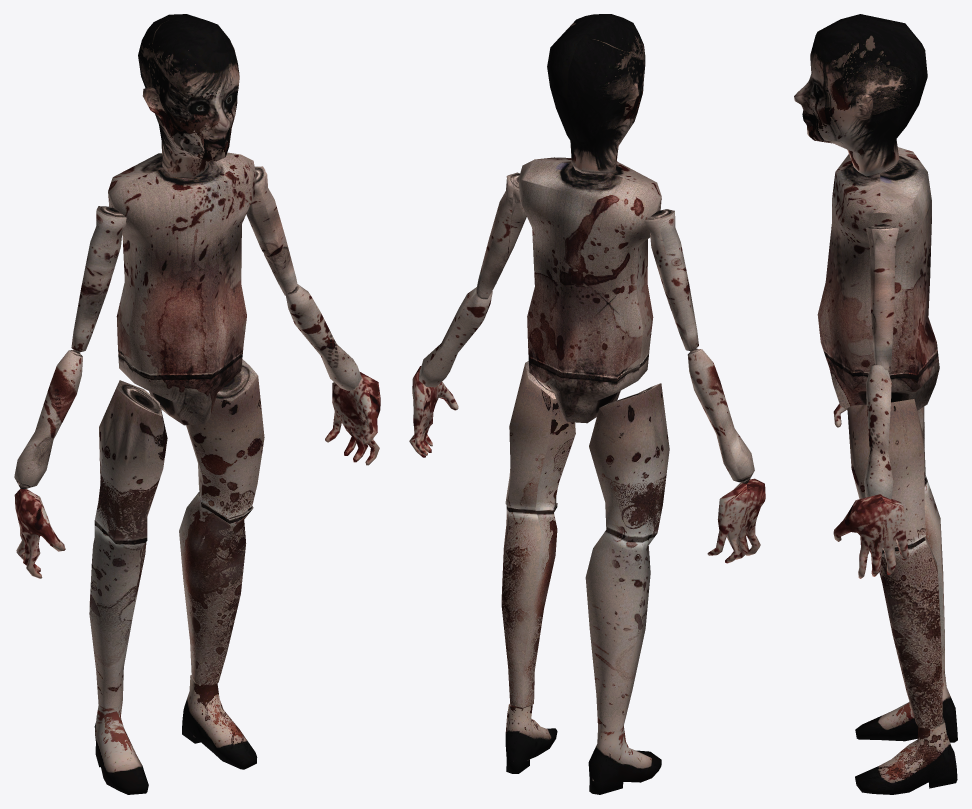
Rendered from the_babu___grey.glb.
3 views of the same model, side by side, from view 1: azimuth 30°, elevation 25°; view 2: azimuth 150°, elevation 25°; view 3: azimuth 270°, elevation 25° (orthographic). The views are drawn at different scales.
Visible parts, largest first — view 1: studio_Zombie_reference.smd.010_9, studio_Zombie_reference.smd.009_8, studio_Zombie_reference.smd.012_11, studio_Zombie_reference.smd.016_15, studio_Zombie_reference.smd.014_13, studio_Zombie_reference.smd.015_14, studio_Zombie_reference.smd.004_4, studio_Zombie_reference.smd.006_5, studio_Zombie_reference.smd.013_12, studio_Zombie_reference.smd.008_7, studio_Zombie_reference.smd.019_18, studio_Zombie_reference.smd.003_3 (+2 smaller); view 2: studio_Zombie_reference.smd.010_9, studio_Zombie_reference.smd.009_8, studio_Zombie_reference.smd.016_15, studio_Zombie_reference.smd.015_14, studio_Zombie_reference.smd.012_11, studio_Zombie_reference.smd.014_13, studio_Zombie_reference.smd.004_4, studio_Zombie_reference.smd.006_5, studio_Zombie_reference.smd.007_6, studio_Zombie_reference.smd.005_2, studio_Zombie_reference.smd.019_18, studio_Zombie_reference.smd.003_3 (+2 smaller); view 3: studio_Zombie_reference.smd.010_9, studio_Zombie_reference.smd.009_8, studio_Zombie_reference.smd.012_11, studio_Zombie_reference.smd.014_13, studio_Zombie_reference.smd.013_12, studio_Zombie_reference.smd.008_7, studio_Zombie_reference.smd.005_2, studio_Zombie_reference.smd.003_3, studio_Zombie_reference.smd.019_18, studio_Zombie_reference.smd.015_14.
Boxes of the visible parts, bbox=[...] form: studio_Zombie_reference.smd.010_9: bbox=[108, 152, 255, 425]; studio_Zombie_reference.smd.009_8: bbox=[138, 14, 239, 177]; studio_Zombie_reference.smd.012_11: bbox=[179, 492, 253, 685]; studio_Zombie_reference.smd.016_15: bbox=[94, 380, 167, 542]; studio_Zombie_reference.smd.014_13: bbox=[186, 359, 264, 517]; studio_Zombie_reference.smd.015_14: bbox=[89, 530, 146, 708]; studio_Zombie_reference.smd.004_4: bbox=[71, 206, 126, 352]; studio_Zombie_reference.smd.006_5: bbox=[14, 350, 82, 489]; studio_Zombie_reference.smd.013_12: bbox=[182, 675, 257, 769]; studio_Zombie_reference.smd.008_7: bbox=[325, 372, 380, 465]; studio_Zombie_reference.smd.019_18: bbox=[94, 701, 148, 794]; studio_Zombie_reference.smd.003_3: bbox=[285, 284, 361, 391]; studio_Zombie_reference.smd.010_9: bbox=[518, 157, 661, 423]; studio_Zombie_reference.smd.009_8: bbox=[547, 14, 645, 174]; studio_Zombie_reference.smd.016_15: bbox=[589, 383, 669, 550]; studio_Zombie_reference.smd.015_14: bbox=[585, 532, 657, 731]; studio_Zombie_reference.smd.012_11: bbox=[501, 503, 557, 707]; studio_Zombie_reference.smd.014_13: bbox=[505, 361, 575, 511]; studio_Zombie_reference.smd.004_4: bbox=[644, 209, 698, 351]; studio_Zombie_reference.smd.006_5: bbox=[687, 348, 754, 483]; studio_Zombie_reference.smd.007_6: bbox=[707, 478, 765, 563]; studio_Zombie_reference.smd.005_2: bbox=[476, 172, 526, 299]; studio_Zombie_reference.smd.019_18: bbox=[588, 726, 661, 782]; studio_Zombie_reference.smd.003_3: bbox=[419, 287, 492, 387]; studio_Zombie_reference.smd.010_9: bbox=[817, 147, 939, 410]; studio_Zombie_reference.smd.009_8: bbox=[794, 14, 927, 176]; studio_Zombie_reference.smd.012_11: bbox=[879, 536, 942, 728]; studio_Zombie_reference.smd.014_13: bbox=[847, 399, 925, 546]; studio_Zombie_reference.smd.013_12: bbox=[855, 718, 957, 794]; studio_Zombie_reference.smd.008_7: bbox=[833, 494, 908, 578]; studio_Zombie_reference.smd.005_2: bbox=[866, 224, 898, 371]; studio_Zombie_reference.smd.003_3: bbox=[864, 364, 893, 499]; studio_Zombie_reference.smd.019_18: bbox=[855, 674, 957, 741]; studio_Zombie_reference.smd.015_14: bbox=[924, 490, 944, 679].
Bounding box in the file's own units: 0.7987 × 1.62 × 0.3238.
1 material, 1 textured.
